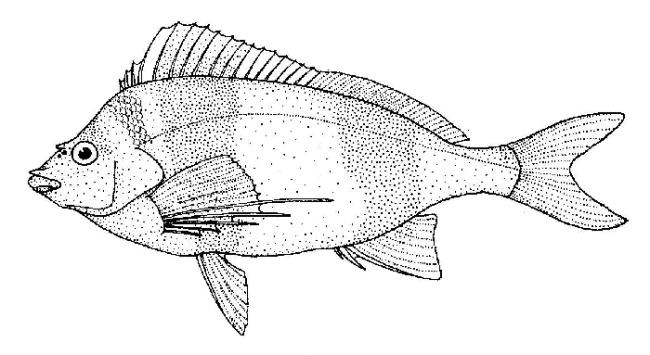fish: (29, 22, 629, 335)
